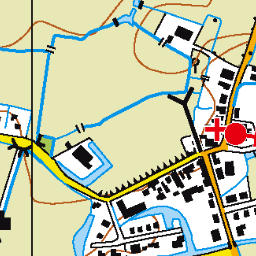church: (224, 120, 256, 150)
